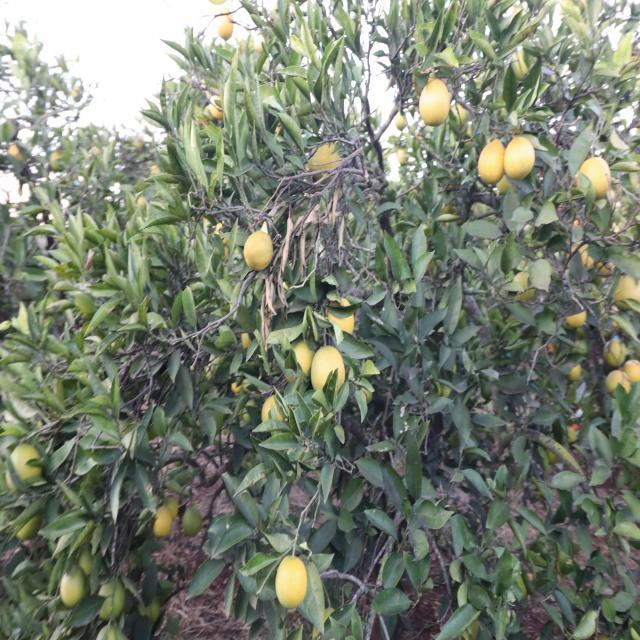Jeruk Belum Matang: (309, 140, 346, 189), (418, 80, 451, 128), (475, 137, 508, 184), (503, 136, 538, 180), (577, 156, 610, 202), (506, 270, 536, 306), (613, 272, 640, 310), (494, 163, 522, 194), (604, 334, 628, 369), (568, 244, 594, 275), (606, 371, 630, 404), (596, 245, 618, 278), (565, 298, 589, 328), (598, 311, 620, 338), (461, 124, 482, 149), (449, 102, 468, 128), (623, 355, 640, 384), (542, 442, 563, 464), (566, 360, 582, 382), (438, 193, 452, 218), (444, 212, 458, 230), (426, 255, 437, 273)
Jeruk Sudah Matang: (4, 442, 43, 496), (310, 346, 348, 396), (275, 554, 308, 608), (95, 574, 128, 622), (323, 293, 356, 341), (10, 499, 43, 540), (242, 230, 274, 272), (60, 563, 86, 610), (134, 586, 162, 628), (284, 339, 312, 376), (262, 394, 288, 432), (76, 542, 102, 577), (151, 506, 174, 540), (218, 14, 242, 42), (8, 142, 28, 174), (182, 506, 202, 537), (164, 495, 184, 521), (135, 195, 157, 218), (100, 622, 128, 640), (208, 96, 226, 120), (256, 34, 273, 58), (242, 400, 258, 424), (50, 150, 66, 173), (238, 329, 256, 349), (0, 122, 16, 144), (218, 221, 232, 244), (150, 162, 164, 181), (71, 85, 86, 102), (430, 380, 443, 398), (440, 386, 453, 404), (398, 148, 411, 166), (219, 244, 231, 262), (396, 114, 408, 130), (568, 418, 580, 433), (231, 376, 240, 394), (242, 377, 252, 393), (449, 364, 459, 376), (547, 341, 556, 354)
